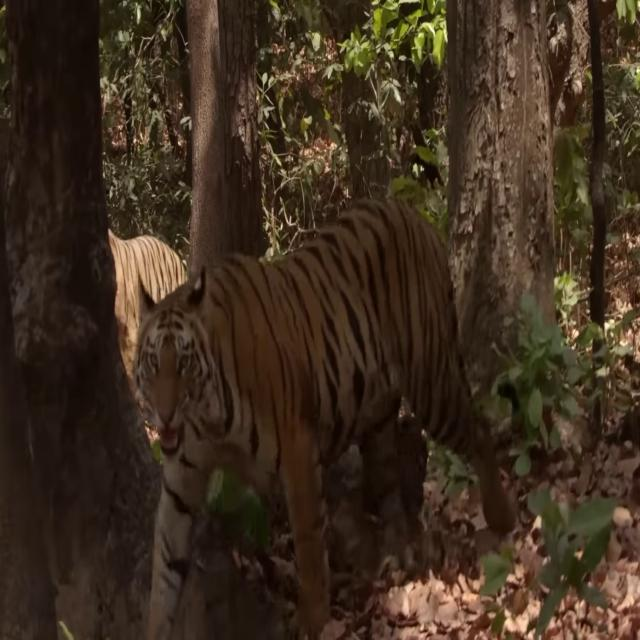tiger: (131, 192, 517, 640)
